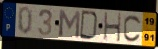0: (17, 6, 34, 36)
3: (38, 9, 54, 37)
C: (122, 14, 143, 43)
D: (79, 10, 100, 41)
H: (103, 12, 122, 44)
M: (58, 9, 82, 40)
